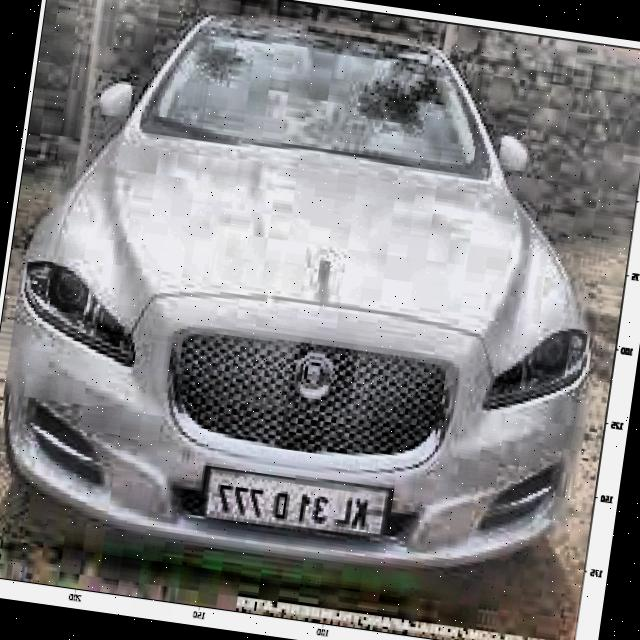license_plate: (206, 470, 379, 541)
